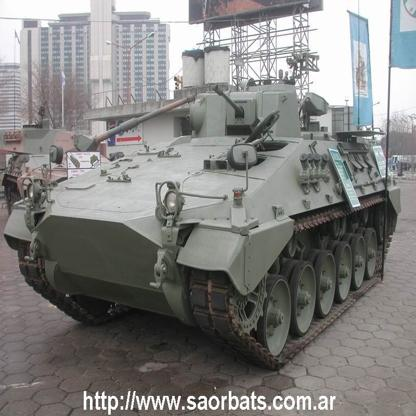Tank: (6, 84, 404, 366)
